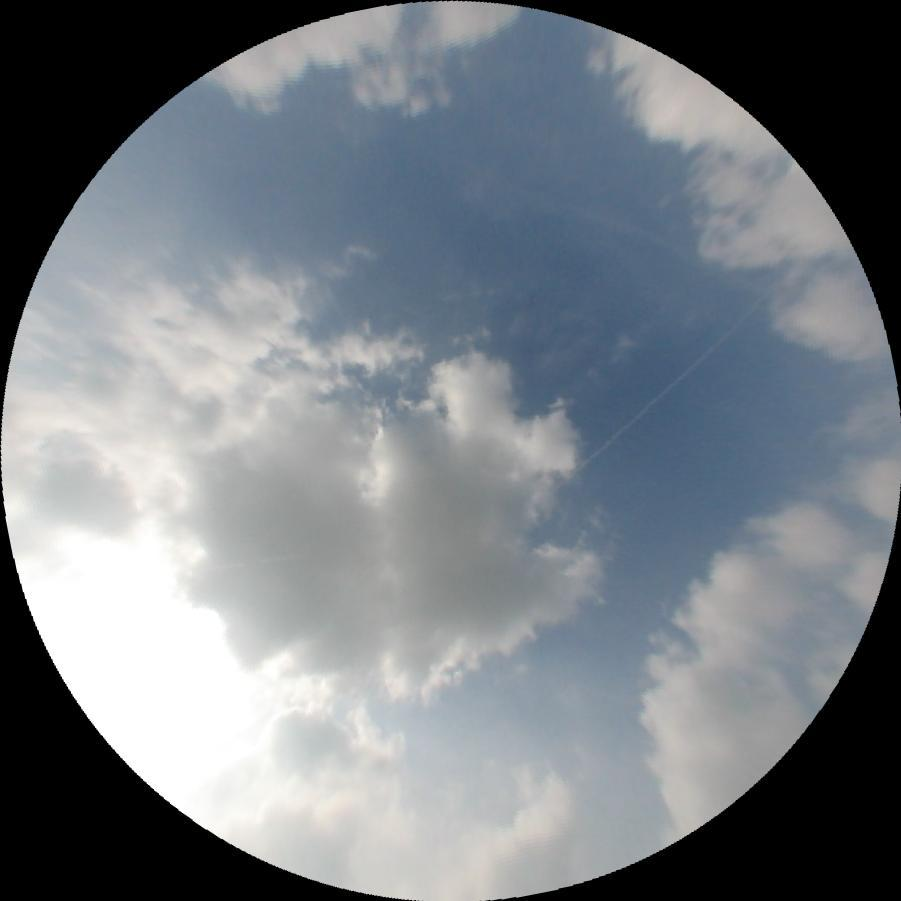contrail old: (571, 292, 768, 476)
sun: (0, 492, 305, 824)
